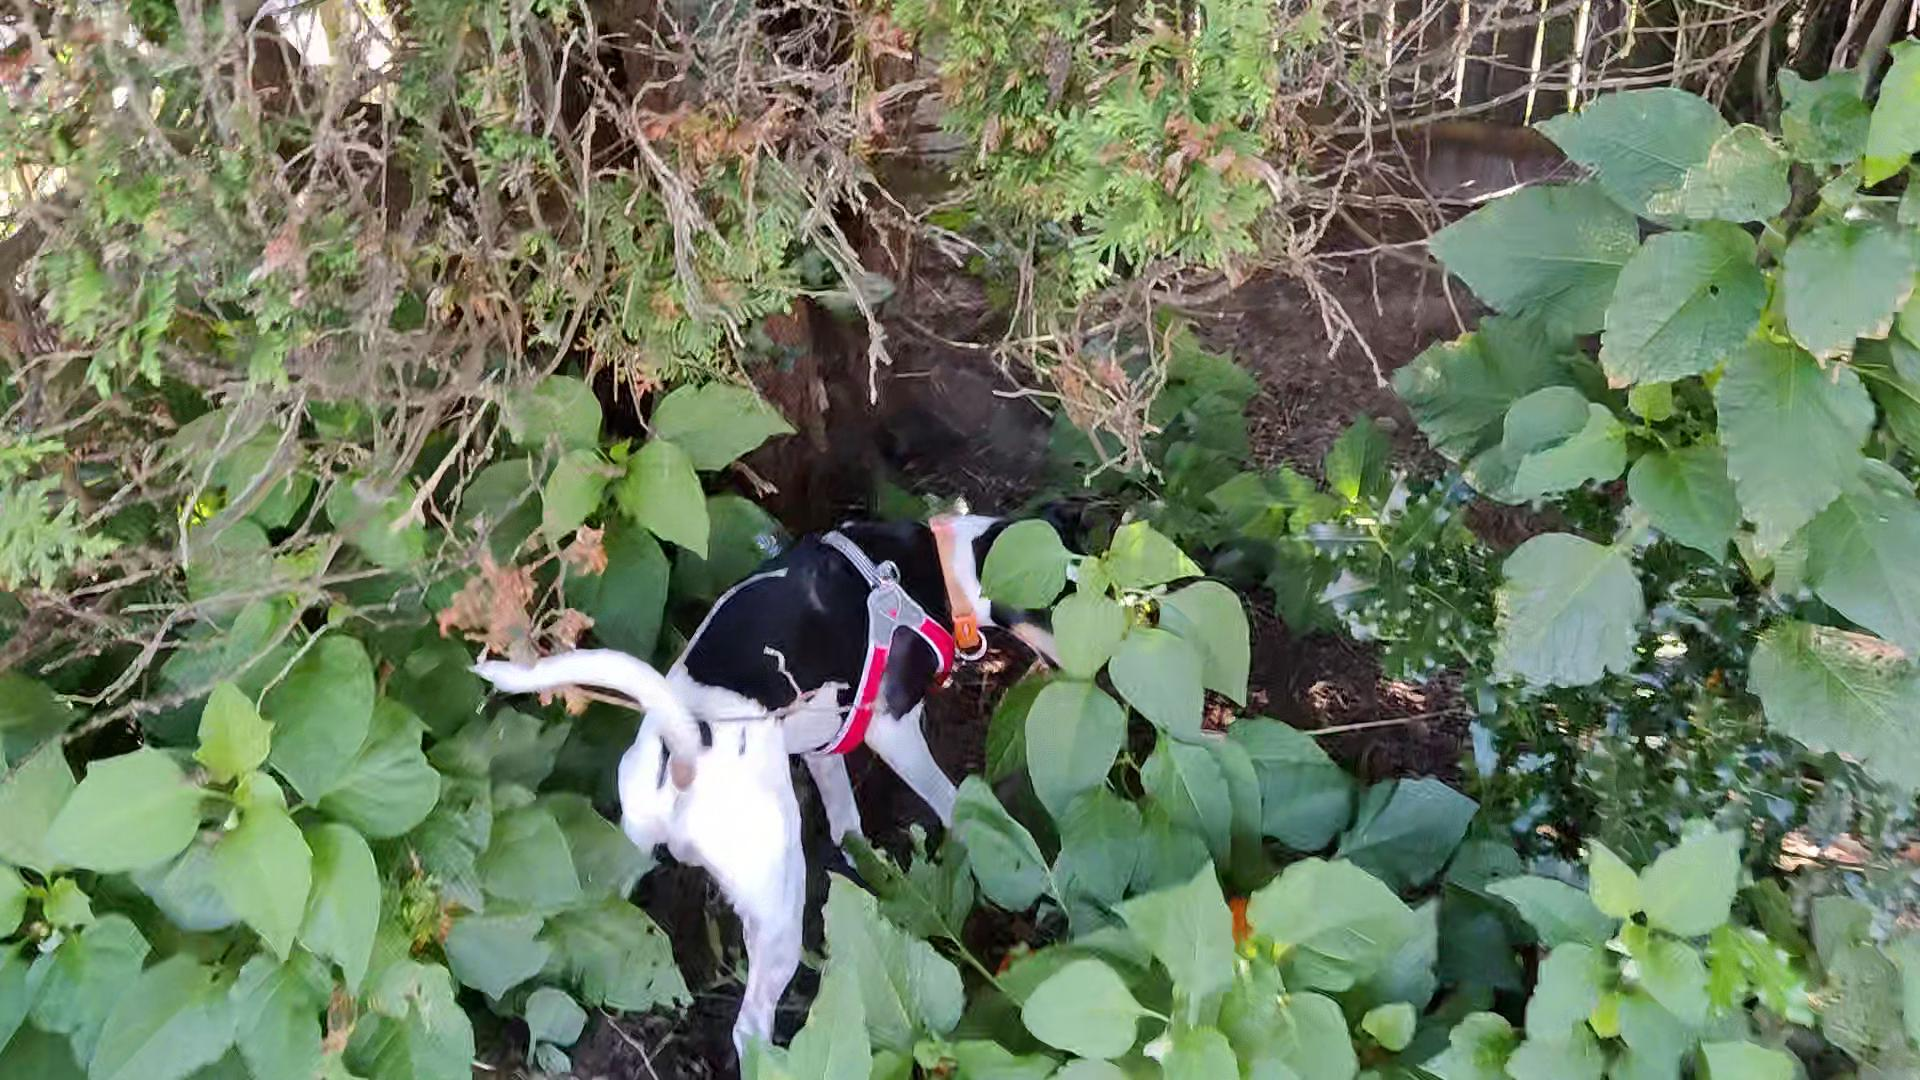Dog: (454, 484, 1105, 1079)
